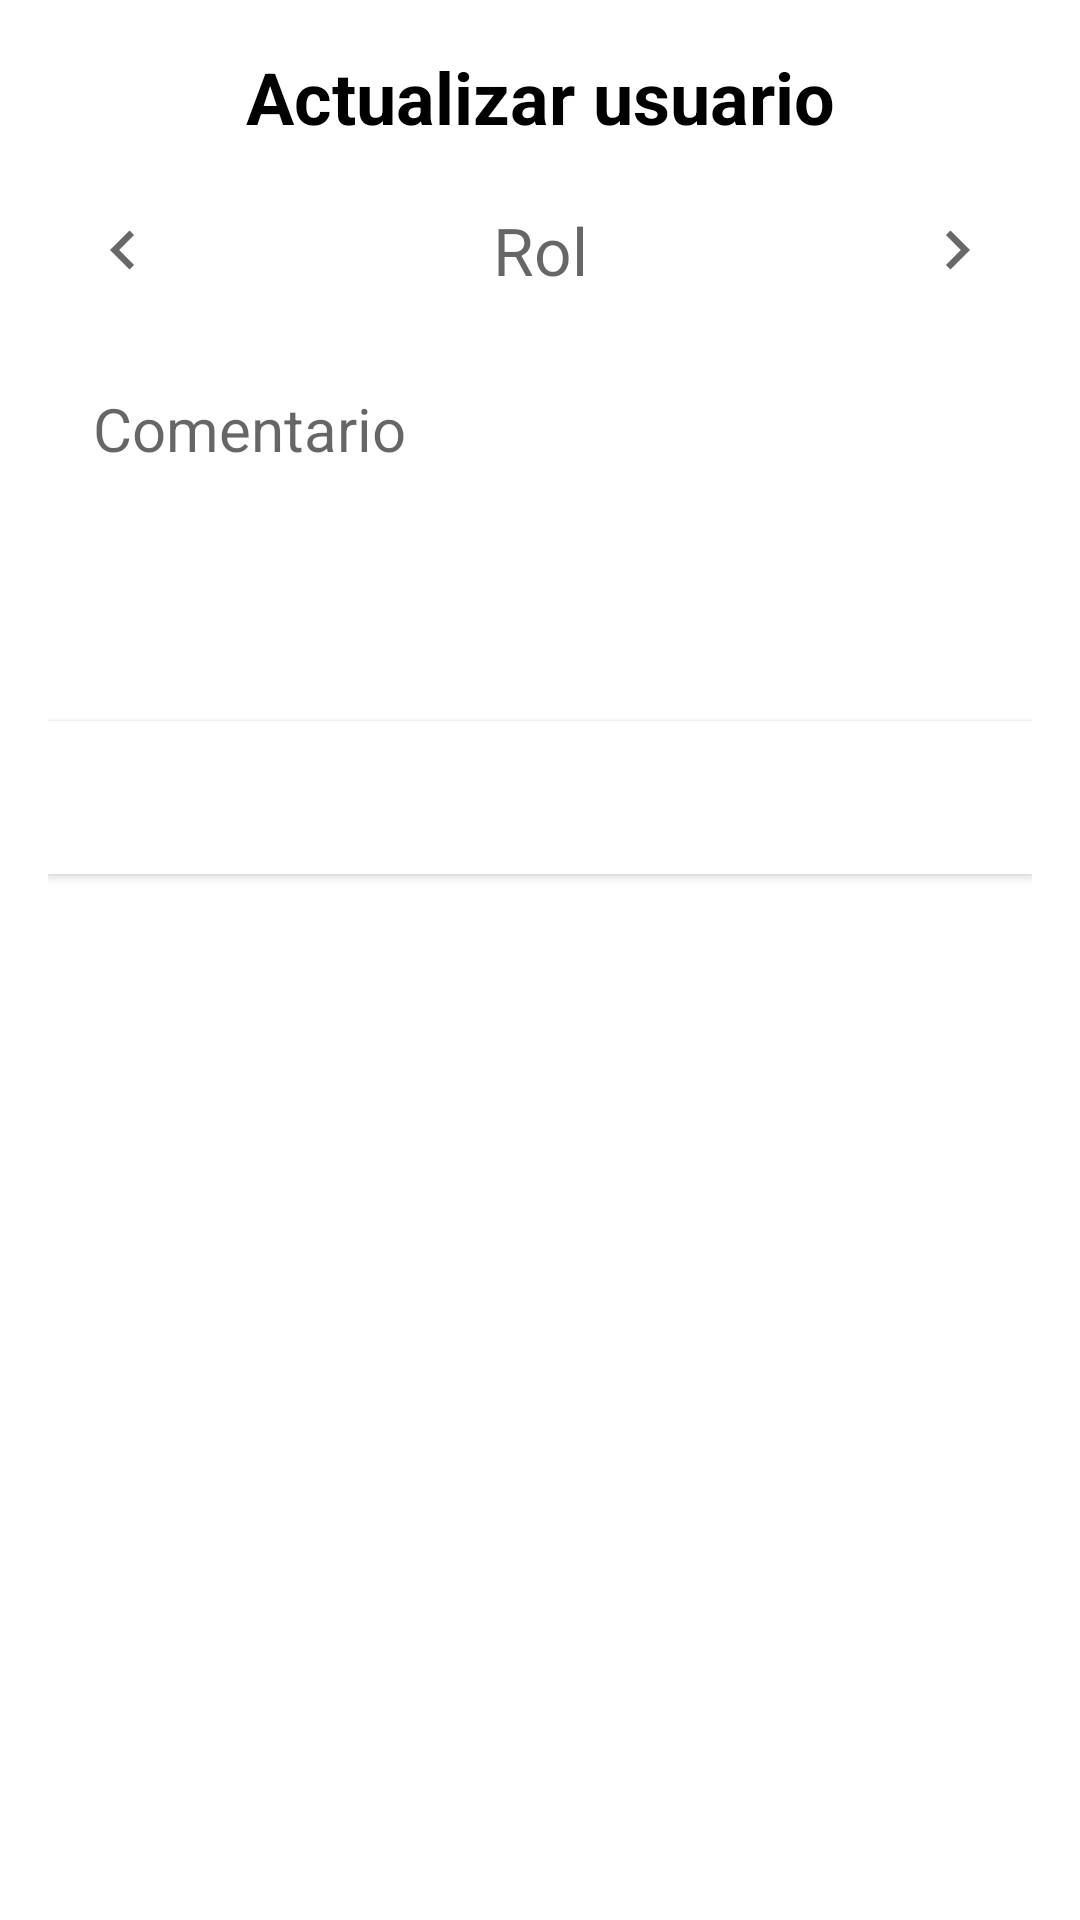

Icon bounding boxes for this 1080x1920 phone screenshot, format bbox=[x1, y1, x2, y2]:
left: bbox=[110, 230, 134, 270]
right: bbox=[946, 230, 970, 270]
